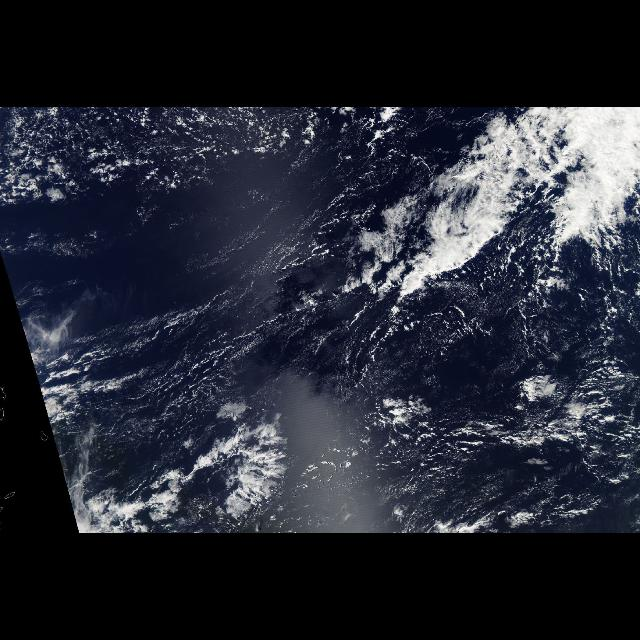Fish: (257, 154, 537, 376)
Gravel: (60, 271, 462, 409), (0, 107, 408, 207)
Sugar: (9, 107, 343, 389)
